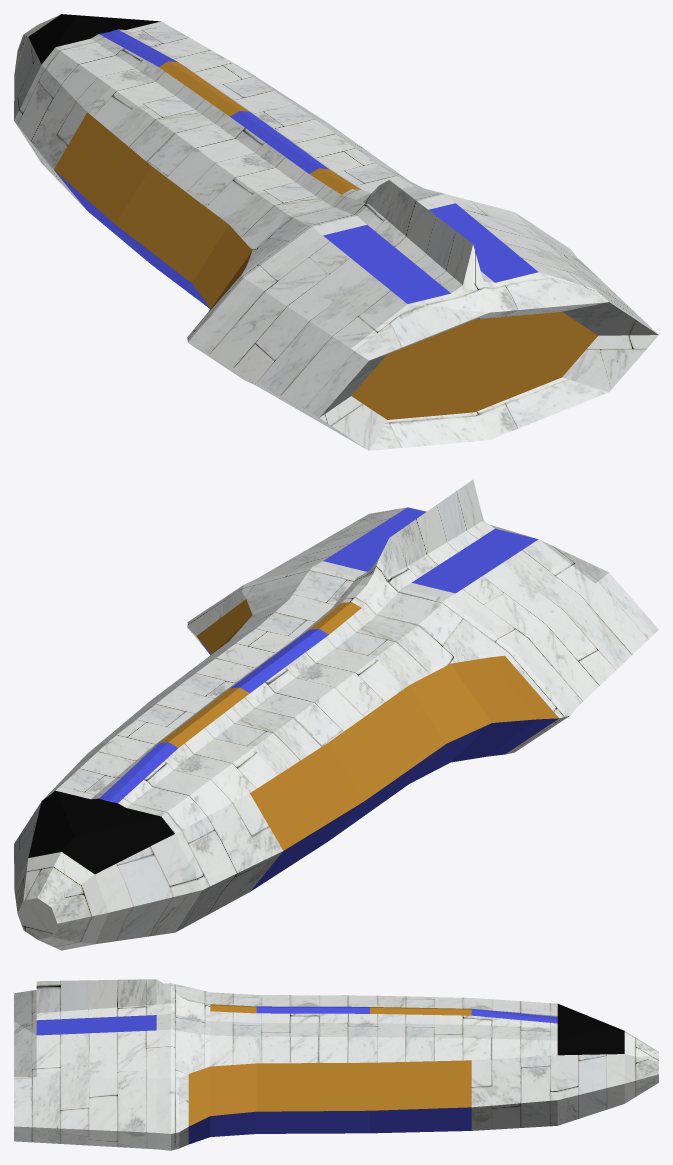
File: personalShip.glb
The picture shows the model from 3 angles, top to bottom: view 1: azimuth 30°, elevation 25°; view 2: azimuth 150°, elevation 25°; view 3: azimuth 270°, elevation 25°; orthographic projection. The views are drawn at different scales.
Visible parts, largest first — view 1: Cylinder; view 2: Cylinder; view 3: Cylinder.
Boxes of the visible parts, box(x1,y1,x2,y2) form: Cylinder: box(14, 14, 658, 450); Cylinder: box(14, 479, 658, 950); Cylinder: box(14, 979, 658, 1150).
Size of the model in its own units: 8.11 by 3.96 by 16.58.
Materials: 4 (1 with a texture image).
